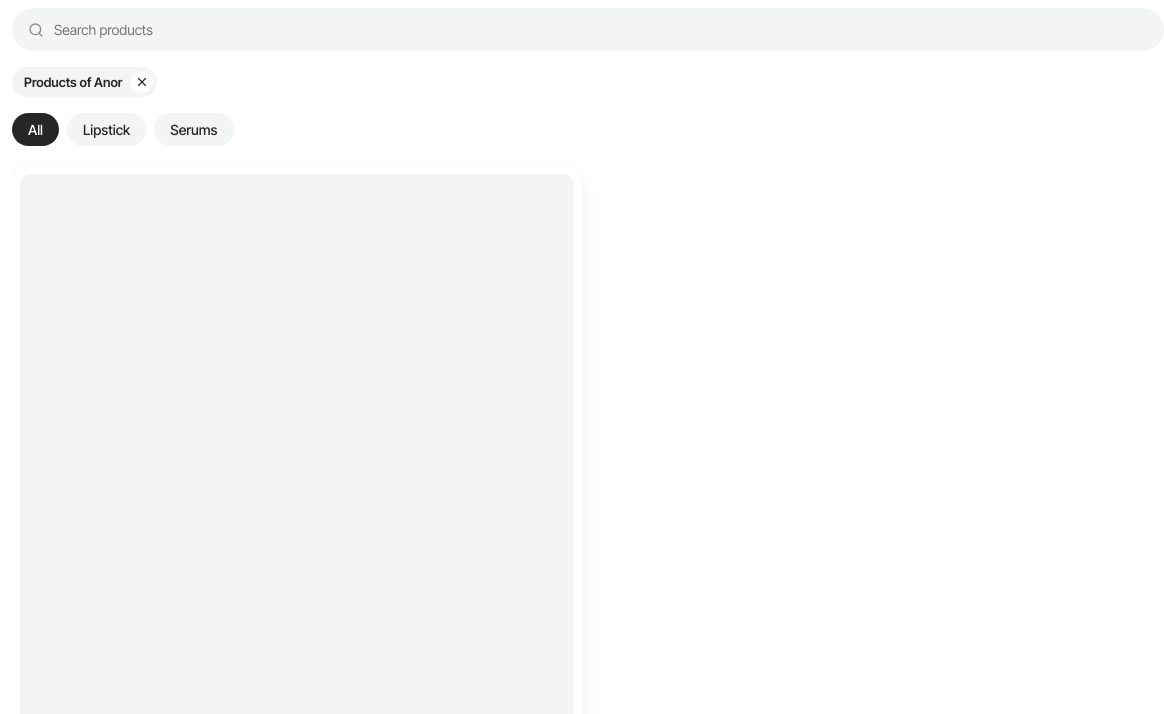
Test: CatalogHomeScreen: sellers (Spec 9) › lists one seller's products and clears the filter
Expected: the text "Products of Anor" is shown, [24,73,122,91]
Expected: the text "Velvet Matte Lipstick" is not shown
What coordinates should you click on to do the following:
click the button named "Show all products"
I would click on:
 (142, 82)
Its box is [130,71,152,93].
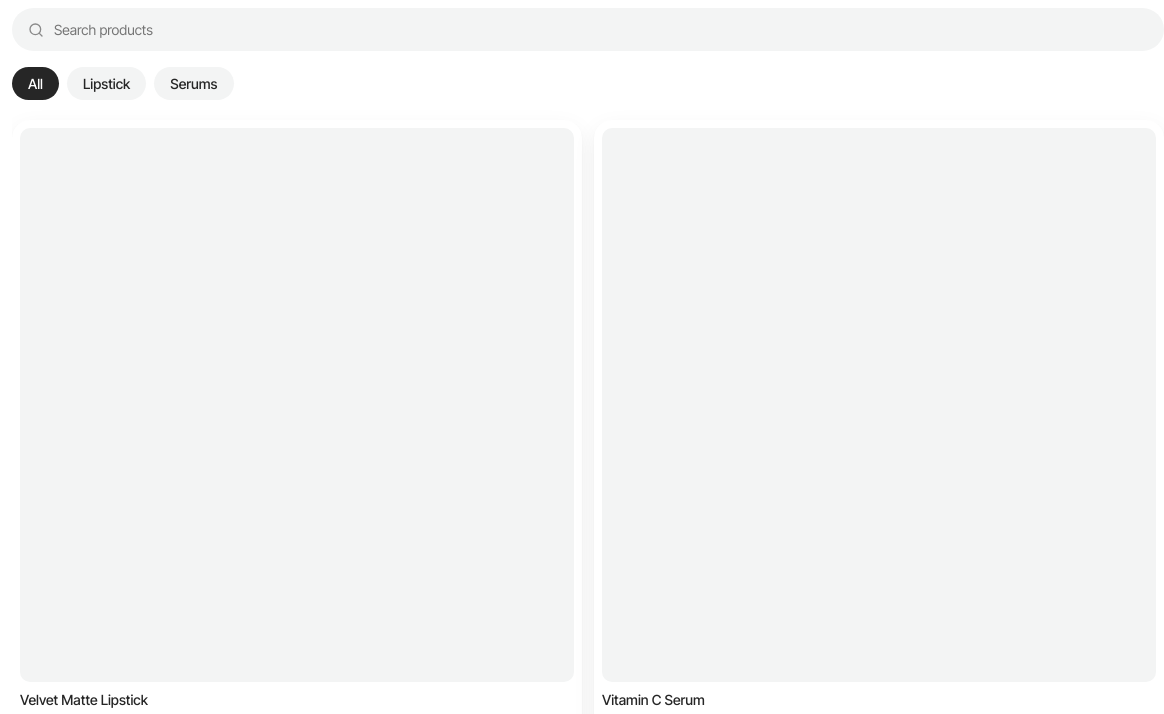
Expected: the text "Velvet Matte Lipstick" is shown, [20,691,148,708]
Expected: the text "Products of Anor" is gone
